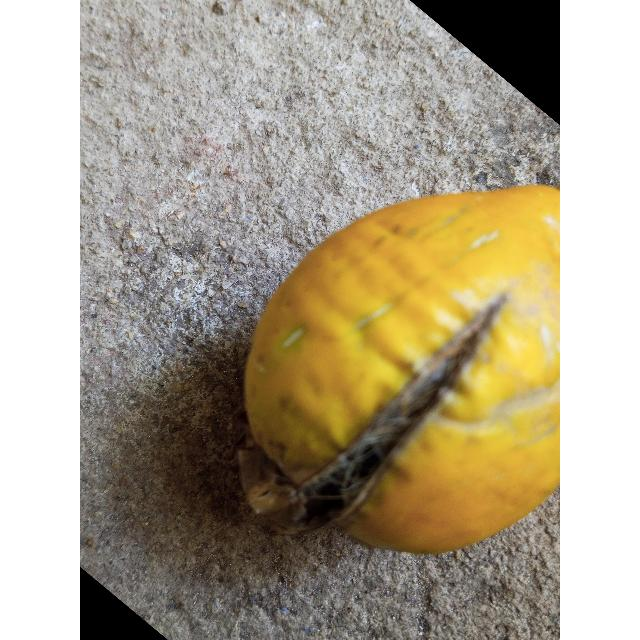damaged: (238, 186, 560, 553)
